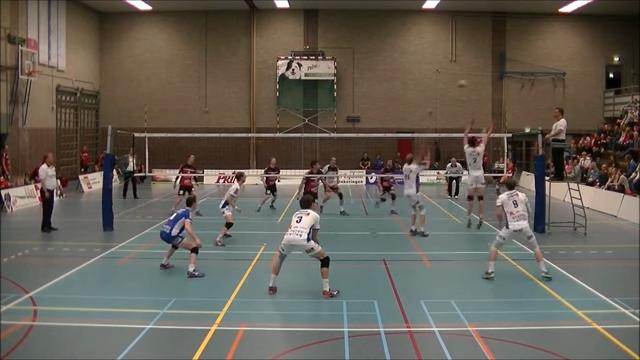Block: (460, 117, 495, 233)
Player: (268, 194, 339, 297), (482, 178, 551, 279), (160, 195, 204, 277), (215, 172, 245, 245), (403, 154, 428, 236), (319, 157, 348, 215), (171, 155, 197, 213), (256, 158, 279, 211), (376, 160, 397, 214), (297, 160, 322, 200)
ball: (456, 78, 465, 89)
